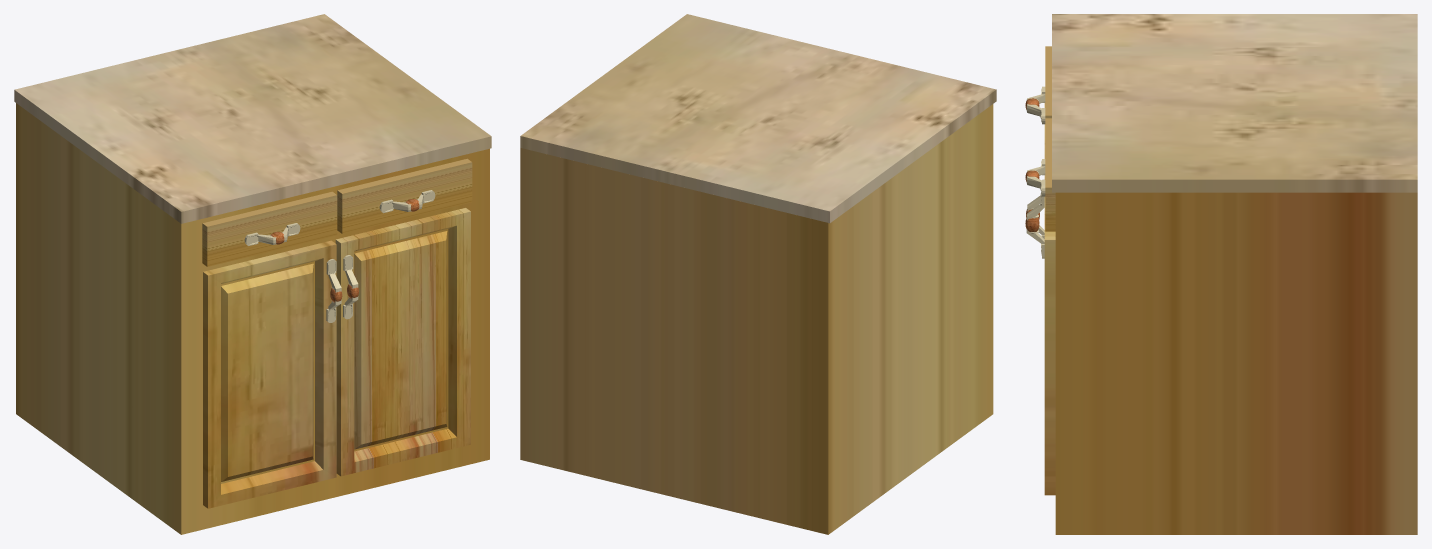
Rendered from sh-contrib-2-door-lower-cabinet.glb.
3 renders of one model, left to right at view 1: azimuth 30°, elevation 25°; view 2: azimuth 150°, elevation 25°; view 3: azimuth 270°, elevation 25°, orthographic. The views are drawn at different scales.
Visible parts, largest first — view 1: PolyMesh_4, PolyMesh_6, Spline_Mesh_4_15; view 2: PolyMesh_4, PolyMesh_6; view 3: PolyMesh_4, PolyMesh_6, Spline_Mesh_4_15.
Boxes of the visible parts, x1=… form: PolyMesh_4: x1=16, y1=103, x2=489, y2=534; PolyMesh_6: x1=14, y1=14, x2=491, y2=223; Spline_Mesh_4_15: x1=244, y1=190, x2=435, y2=322; PolyMesh_4: x1=520, y1=104, x2=993, y2=534; PolyMesh_6: x1=520, y1=14, x2=996, y2=223; PolyMesh_4: x1=1044, y1=46, x2=1417, y2=534; PolyMesh_6: x1=1052, y1=14, x2=1417, y2=192; Spline_Mesh_4_15: x1=1026, y1=86, x2=1045, y2=258.
Bounding box in the file's own units: 1 × 1 × 1.
Materials: 4 (3 with a texture image).
